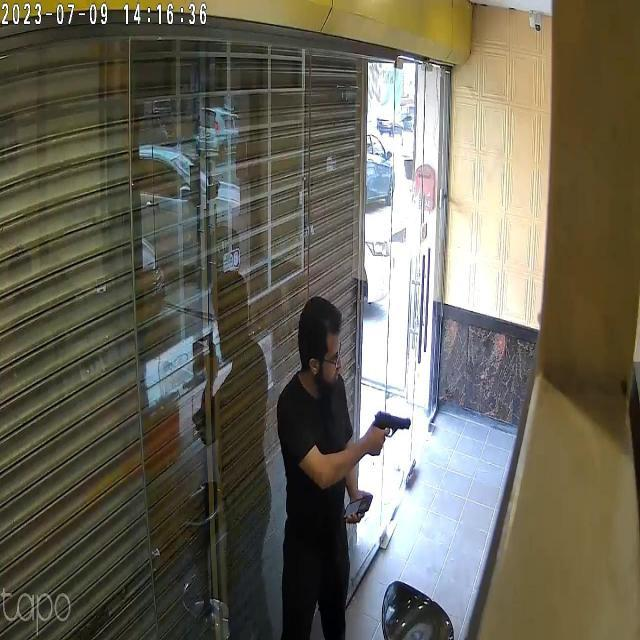Gun: (367, 402, 428, 448)
